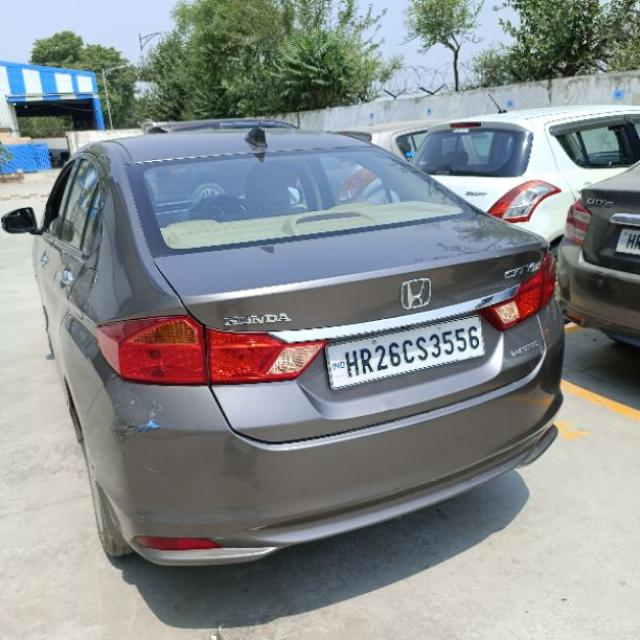license_plate: (323, 314, 486, 390)
